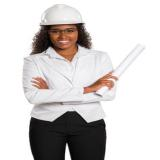Helmet: (38, 3, 86, 26)
